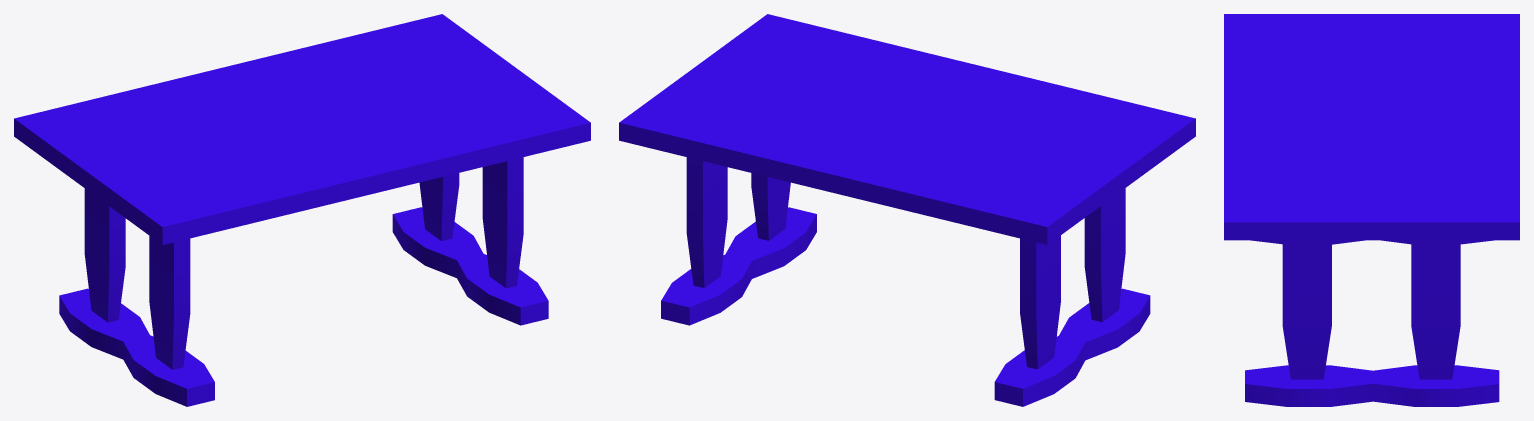
The model's file is office_pack_table_2_meshCollider.fbx.
3 renders of one model, left to right at view 1: azimuth 30°, elevation 25°; view 2: azimuth 150°, elevation 25°; view 3: azimuth 270°, elevation 25°, orthographic.
Parts seen in each view (by area): view 1: office_pack_table_2_meshCollider; view 2: office_pack_table_2_meshCollider; view 3: office_pack_table_2_meshCollider.
Part boxes in pixels (x1,y1,x2,y2): office_pack_table_2_meshCollider: (14, 14, 590, 406); office_pack_table_2_meshCollider: (619, 14, 1195, 406); office_pack_table_2_meshCollider: (1224, 14, 1519, 406).
Size of the model in its own units: 100 by 43.75 by 60.07.
